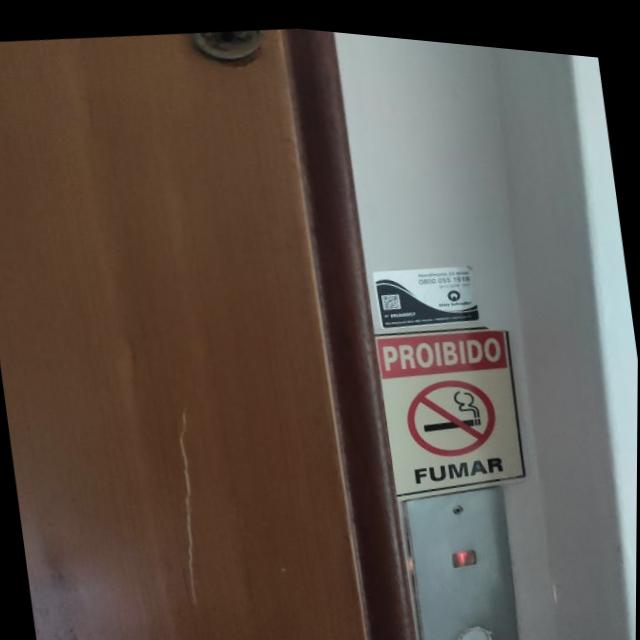qrcode: (383, 288, 402, 304)
